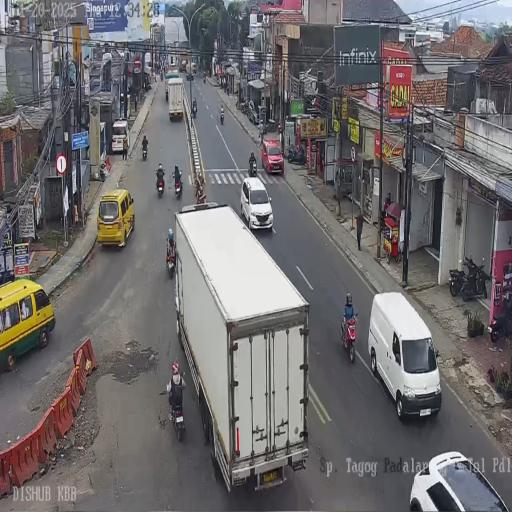car: (368, 292, 442, 420), (408, 450, 510, 510), (96, 188, 134, 246), (240, 176, 274, 231), (260, 138, 284, 175), (112, 119, 130, 155), (247, 99, 260, 125)
motorcycle: (167, 371, 186, 440), (461, 255, 488, 301), (489, 292, 512, 342), (449, 264, 464, 296), (286, 145, 306, 166), (166, 242, 176, 278), (155, 168, 165, 196), (174, 168, 183, 198), (241, 99, 249, 115), (142, 142, 148, 160), (192, 102, 197, 118), (220, 110, 224, 124), (203, 74, 206, 84), (160, 73, 163, 81)
truck: (173, 204, 306, 492), (166, 77, 184, 121), (144, 52, 152, 78), (190, 56, 199, 74), (169, 54, 177, 70), (180, 58, 187, 72)
